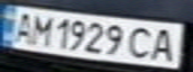1: (51, 16, 72, 51)
2: (84, 19, 109, 55)
9: (103, 20, 130, 57), (66, 17, 87, 52)
A: (145, 25, 184, 63), (6, 9, 39, 44)
C: (124, 25, 160, 61)
M: (27, 11, 54, 47)
